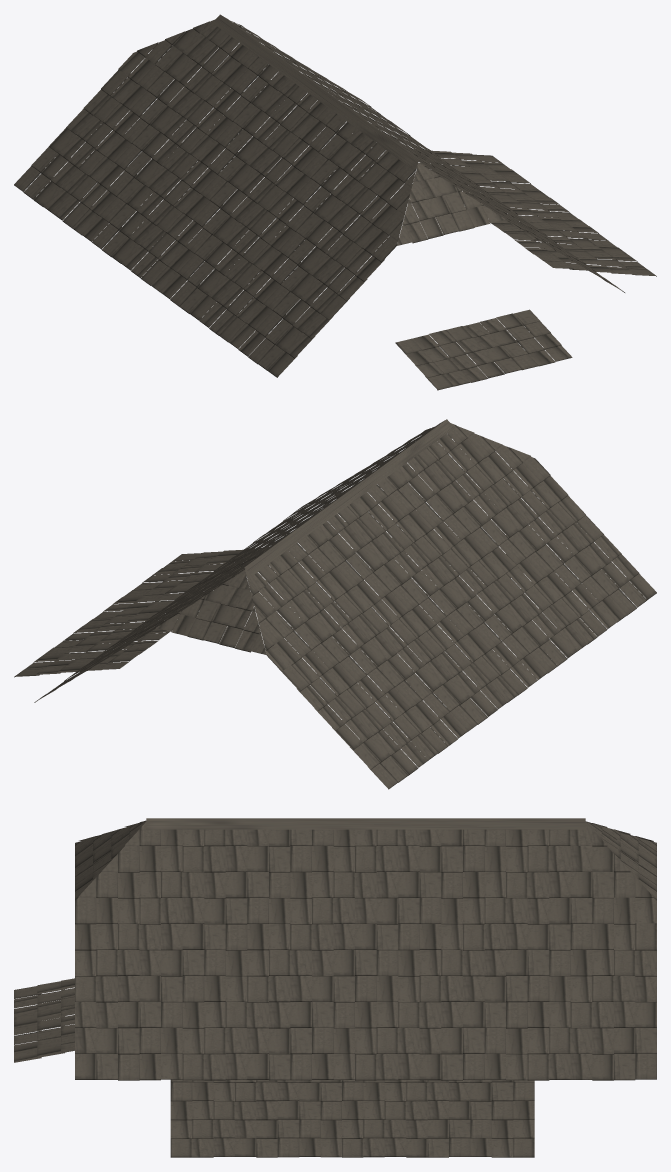
File: BW_ElderCottage01_Shingles.fbx
3 renders of one model, top to bottom at view 1: azimuth 30°, elevation 25°; view 2: azimuth 150°, elevation 25°; view 3: azimuth 270°, elevation 25°, orthographic. The views are drawn at different scales.
Visible parts, largest first — view 1: BW_ElderCottage01_Shingles; view 2: BW_ElderCottage01_Shingles; view 3: BW_ElderCottage01_Shingles.
Boxes of the visible parts, bbox=[...] form: BW_ElderCottage01_Shingles: bbox=[14, 14, 656, 390]; BW_ElderCottage01_Shingles: bbox=[14, 419, 656, 789]; BW_ElderCottage01_Shingles: bbox=[14, 818, 656, 1157].
Bounding box in the file's own units: 8.15 × 3.42 × 9.72.
